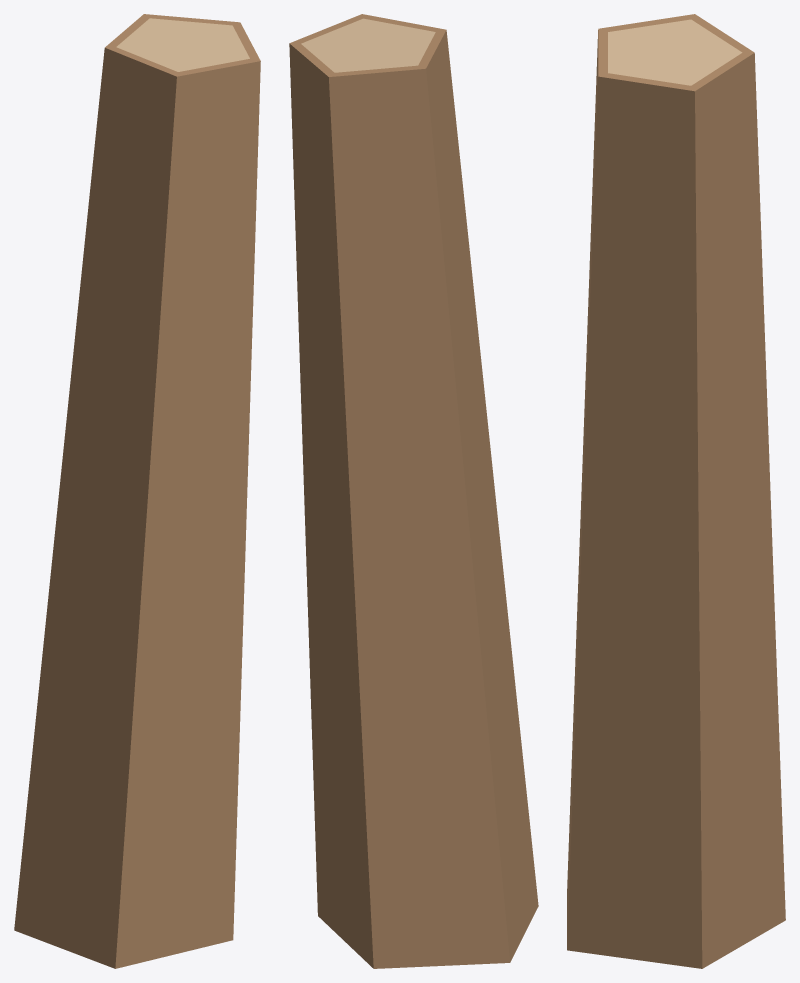
Rendered from Palm_Stump_01.fbx.
The picture shows the model from 3 angles, left to right: view 1: azimuth 30°, elevation 25°; view 2: azimuth 150°, elevation 25°; view 3: azimuth 270°, elevation 25°; orthographic projection. The views are drawn at different scales.
Parts seen in each view (by area): view 1: Palm_Stump_01; view 2: Palm_Stump_01; view 3: Palm_Stump_01.
Part boxes in pixels (<box>): Palm_Stump_01: <box>14,14,260,968</box>; Palm_Stump_01: <box>289,14,538,968</box>; Palm_Stump_01: <box>567,14,785,968</box>.
Bounding box in the file's own units: 46.89 × 174 × 38.21.
